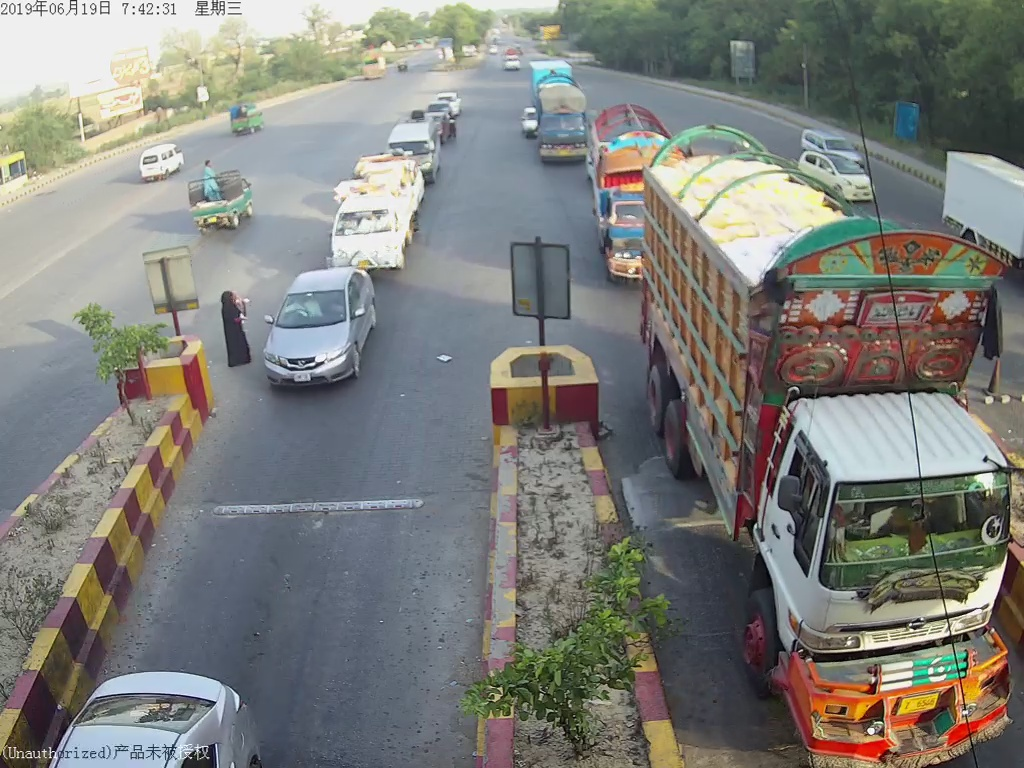Cat-1: (263, 280, 380, 390)
Cat-2: (333, 180, 429, 266)
Cat-4: (650, 120, 1016, 768), (536, 80, 590, 161)
